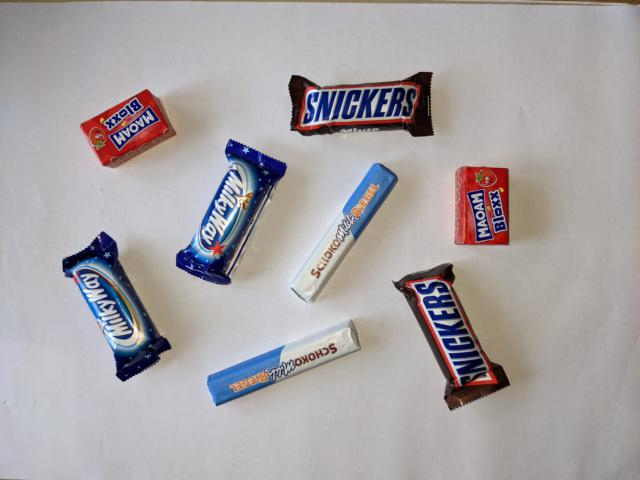MAOAM: (77, 88, 180, 171), (450, 163, 514, 250)
MilkyWay: (59, 228, 176, 383), (174, 136, 289, 288)
Schokoriegel: (283, 159, 401, 309), (204, 316, 366, 410)
Snickers: (389, 260, 513, 412), (285, 68, 438, 141)
